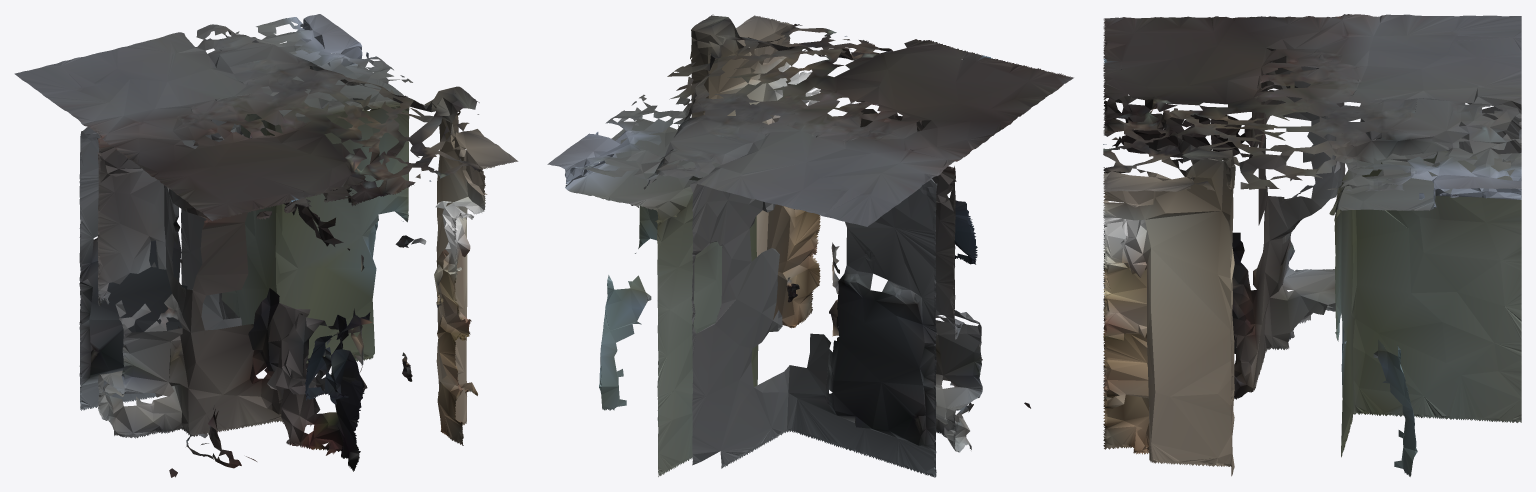
File: coarse.glb
The picture shows the model from 3 angles, left to right: view 1: azimuth 30°, elevation 25°; view 2: azimuth 150°, elevation 25°; view 3: azimuth 270°, elevation 25°; orthographic projection. The views are drawn at different scales.
Size of the model in its own units: 1.59 by 1.52 by 1.78.
